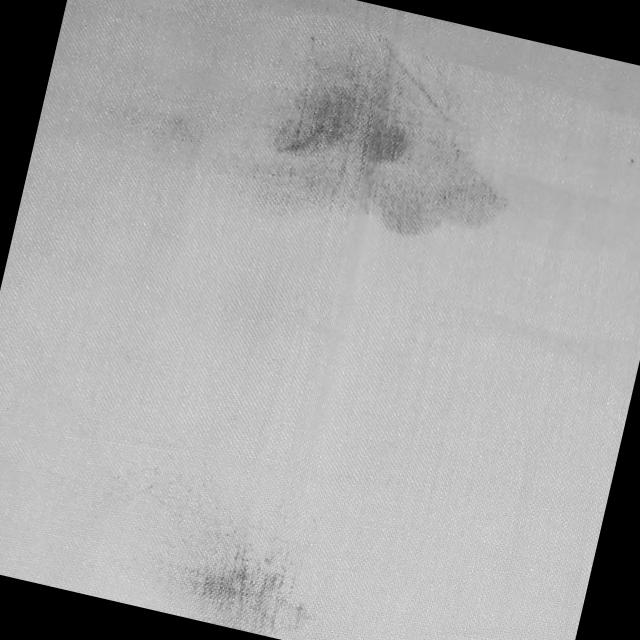Stain: (243, 8, 546, 270), (156, 489, 342, 640)
